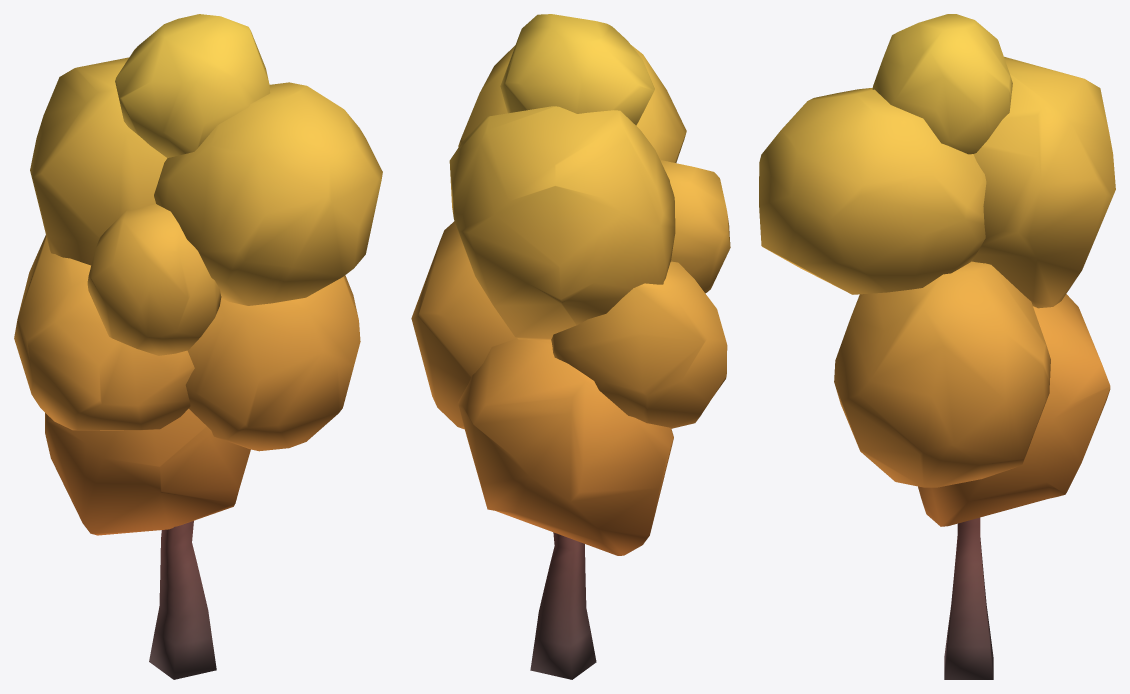
The picture shows the model from 3 angles, left to right: view 1: azimuth 30°, elevation 25°; view 2: azimuth 150°, elevation 25°; view 3: azimuth 270°, elevation 25°; orthographic projection. The views are drawn at different scales.
Visible parts, largest first — view 1: Vert.030-col; view 2: Vert.030-col; view 3: Vert.030-col.
Boxes of the visible parts, x1,y1,x2,y2 form: Vert.030-col: (14,14,382,679); Vert.030-col: (411,14,730,679); Vert.030-col: (759,14,1115,679).
Bounding box in the file's own units: 2.79 × 5.41 × 2.69.
Materials: 1 (1 with a texture image).
